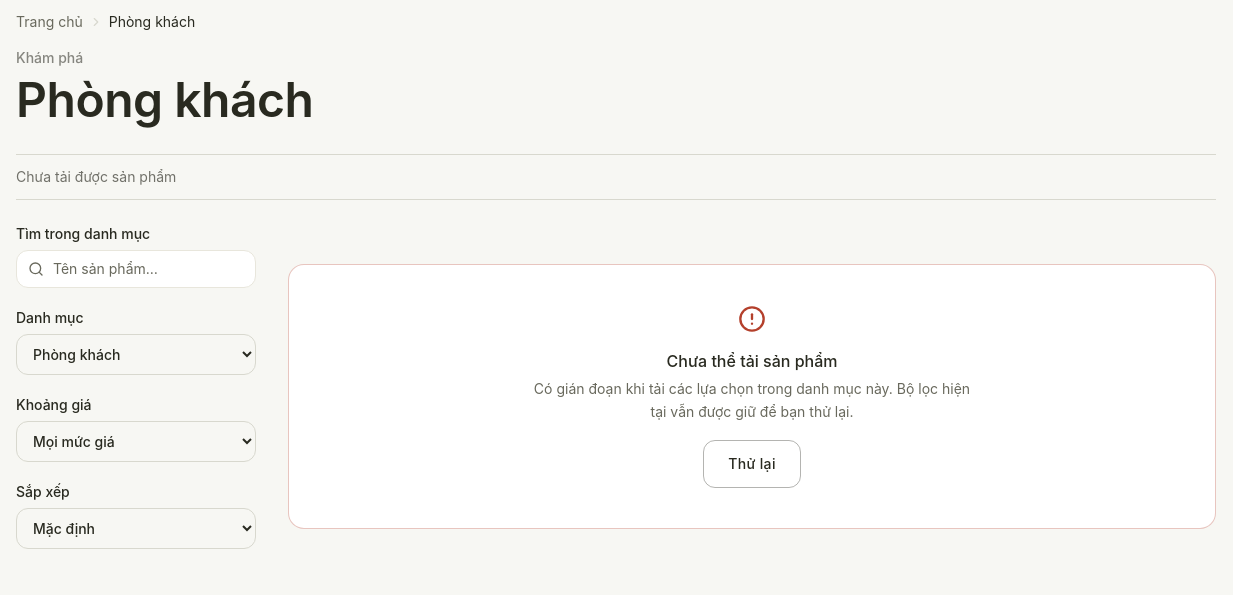
CategoryPage › shows a retryable product failure without claiming the result is empty
Expected: the message that starts with "Chưa thể tải sản phẩm" is shown, [666,351,837,371]
Click the button "Thử lại" at (752, 464), box [703,440,801,488]
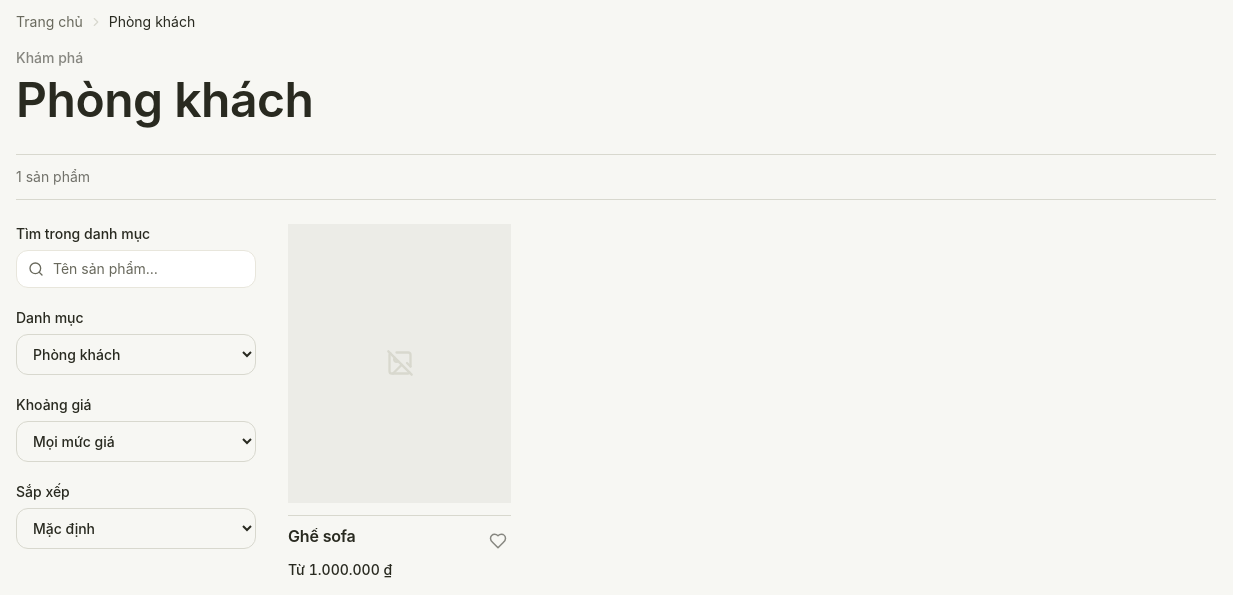
Expected: the heading "Ghế sofa" is shown, [288,528,356,545]
